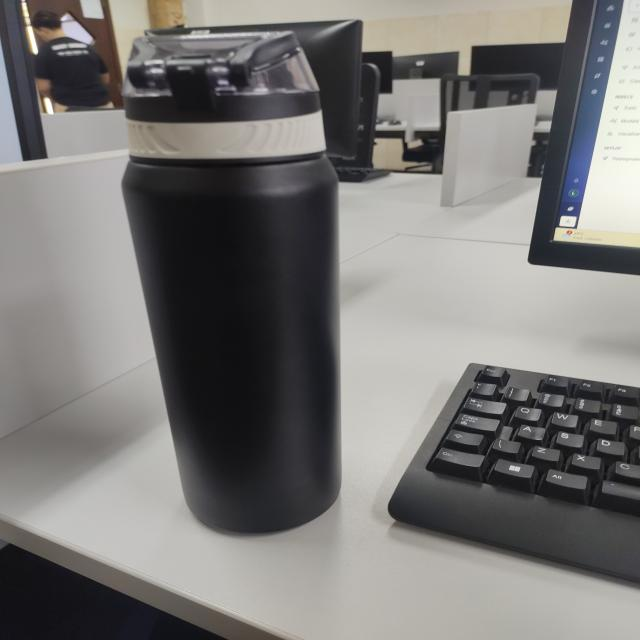Garrafa: (118, 30, 349, 538)
